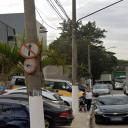NoSeguir: (20, 41, 40, 58)
